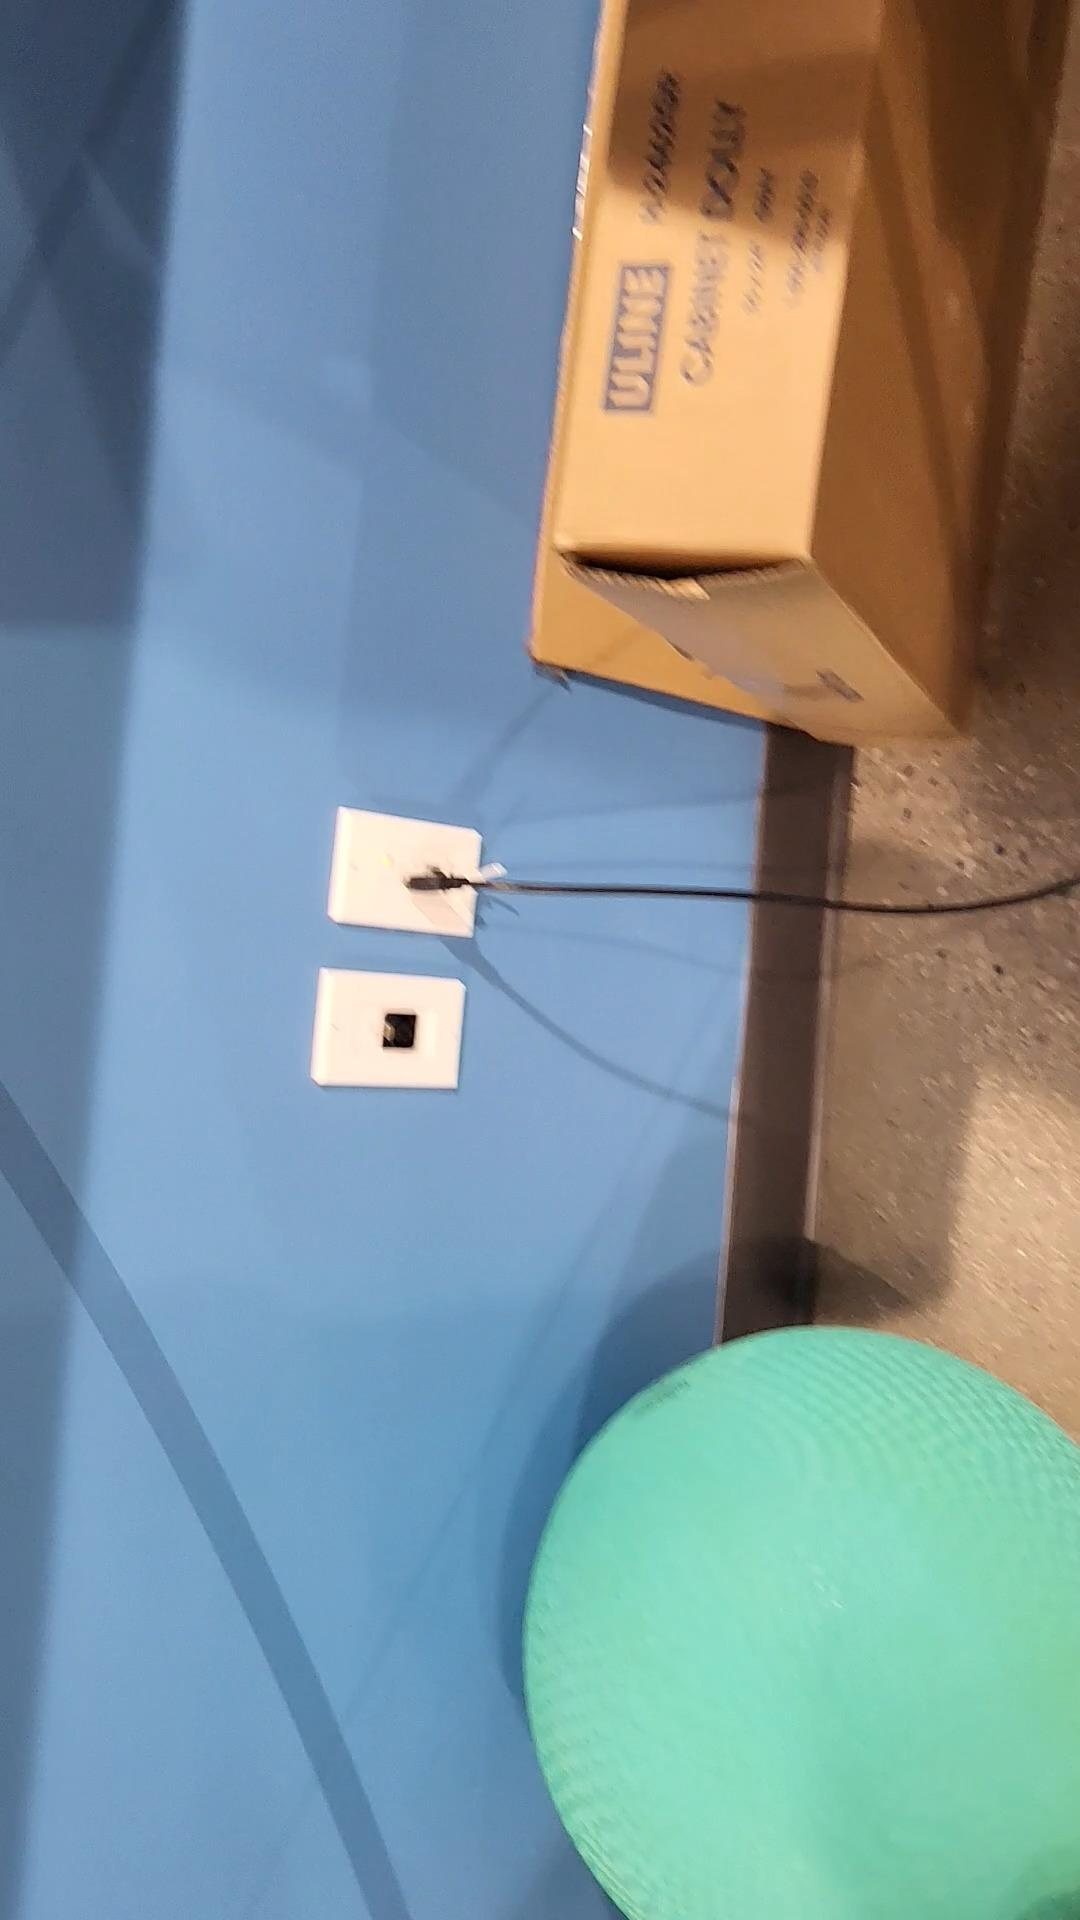algae: (527, 1332, 1080, 1920)
